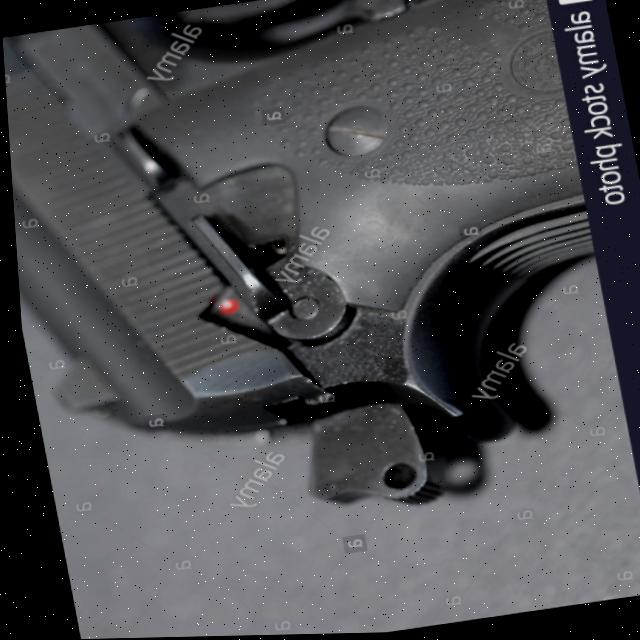pistol: (0, 0, 630, 556)
